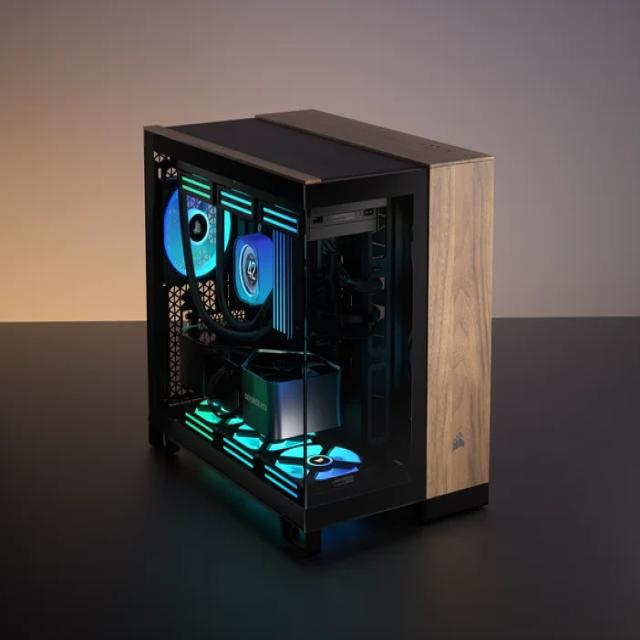electronics: (143, 108, 491, 554), (315, 208, 410, 443), (164, 170, 289, 339), (320, 234, 405, 443), (184, 400, 362, 499), (180, 330, 340, 439), (178, 162, 271, 341), (186, 400, 362, 479), (358, 213, 410, 443), (241, 349, 340, 438), (204, 224, 271, 339), (314, 237, 387, 339), (259, 431, 362, 494), (234, 226, 292, 337), (180, 327, 249, 412), (259, 202, 299, 337), (184, 400, 263, 468), (184, 398, 267, 459), (186, 400, 263, 449), (275, 437, 362, 479), (174, 324, 226, 393), (307, 198, 385, 238), (360, 353, 392, 443), (234, 234, 273, 305), (202, 349, 241, 412), (273, 230, 294, 338), (218, 416, 261, 468), (263, 440, 304, 494), (188, 195, 214, 276), (234, 237, 265, 304), (310, 208, 375, 237), (164, 190, 185, 275), (218, 185, 254, 226), (184, 398, 226, 430), (186, 400, 219, 439), (261, 202, 299, 234), (178, 168, 212, 202), (221, 433, 254, 468), (218, 187, 253, 219), (265, 433, 314, 455), (342, 270, 382, 292), (188, 209, 211, 245), (232, 422, 263, 448), (305, 448, 334, 470), (222, 416, 241, 434), (224, 213, 229, 247), (364, 234, 372, 253), (407, 331, 410, 369), (408, 332, 411, 369), (234, 223, 244, 234), (408, 237, 411, 265), (408, 238, 411, 266), (264, 237, 269, 252), (218, 243, 222, 258), (232, 417, 241, 423), (397, 298, 405, 304), (372, 313, 378, 320), (253, 287, 257, 296), (181, 213, 184, 224), (284, 439, 292, 443), (218, 213, 221, 223), (305, 444, 312, 448), (320, 275, 324, 279), (188, 313, 191, 318), (196, 300, 198, 306), (292, 473, 295, 476), (252, 254, 255, 256), (348, 468, 354, 469), (257, 224, 259, 226), (249, 296, 251, 297), (360, 286, 362, 287), (330, 448, 332, 449), (267, 288, 269, 288), (200, 305, 200, 309)
